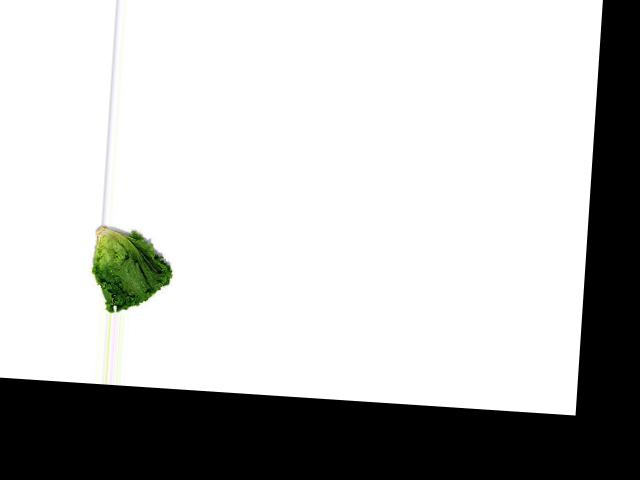lettuce: (83, 222, 182, 316)
